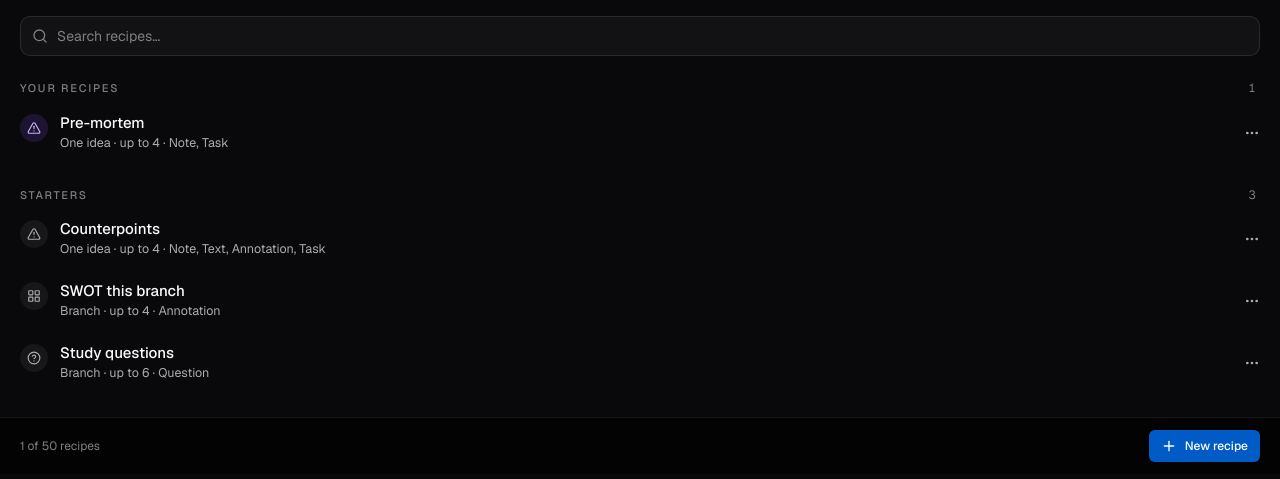
RecipeList › filters recipes and starters as you search
Type "swot" into the search field labelled "Search recipes" at (640, 36), box 20,16 -> 1260,56
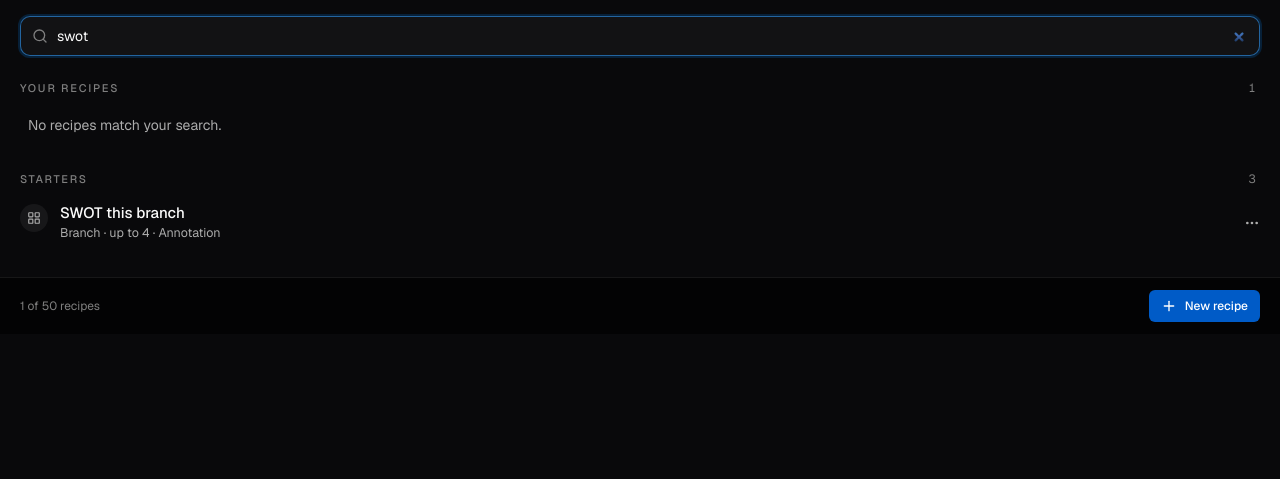
Check: the text "SWOT this branch" is shown, box 60,203 -> 185,222
Check: the button "Pre-mortem" is gone
Check: the text "No recipes match your search." is shown, box 28,116 -> 221,134
